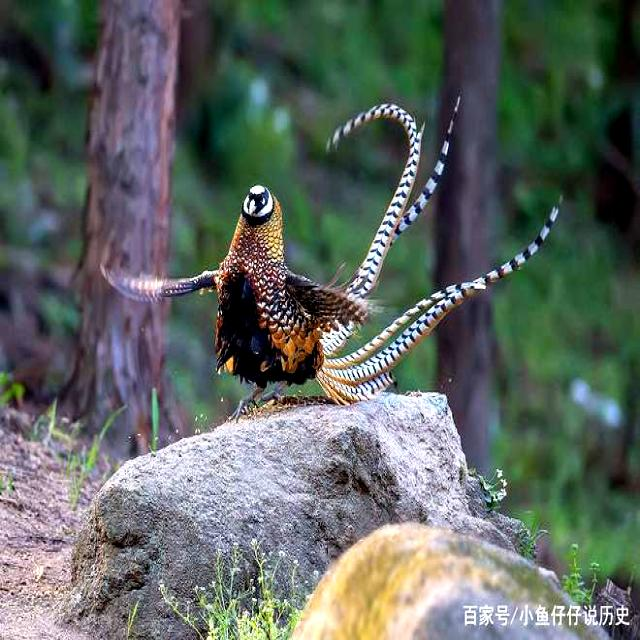Reeves-s Pheasant: (314, 91, 563, 407)
